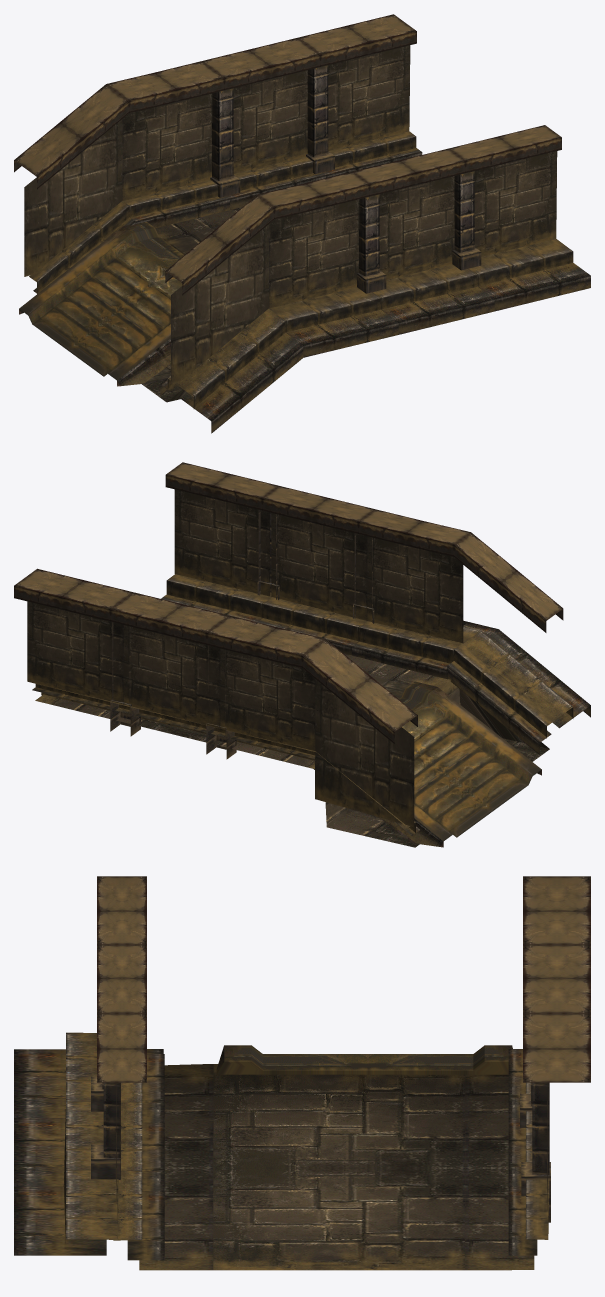
File: 10401_building09.FBX
3 renders of one model, top to bottom at view 1: azimuth 30°, elevation 25°; view 2: azimuth 150°, elevation 25°; view 3: azimuth 270°, elevation 25°, orthographic. The views are drawn at different scales.
Parts seen in each view (by area): view 1: 10401_building09; view 2: 10401_building09; view 3: 10401_building09.
Boxes of the visible parts, <box> form: 10401_building09: <box>14,14,590,433</box>; 10401_building09: <box>14,462,590,847</box>; 10401_building09: <box>14,876,590,1270</box>.
Bounding box in the file's own units: 1075 × 469 × 908.
